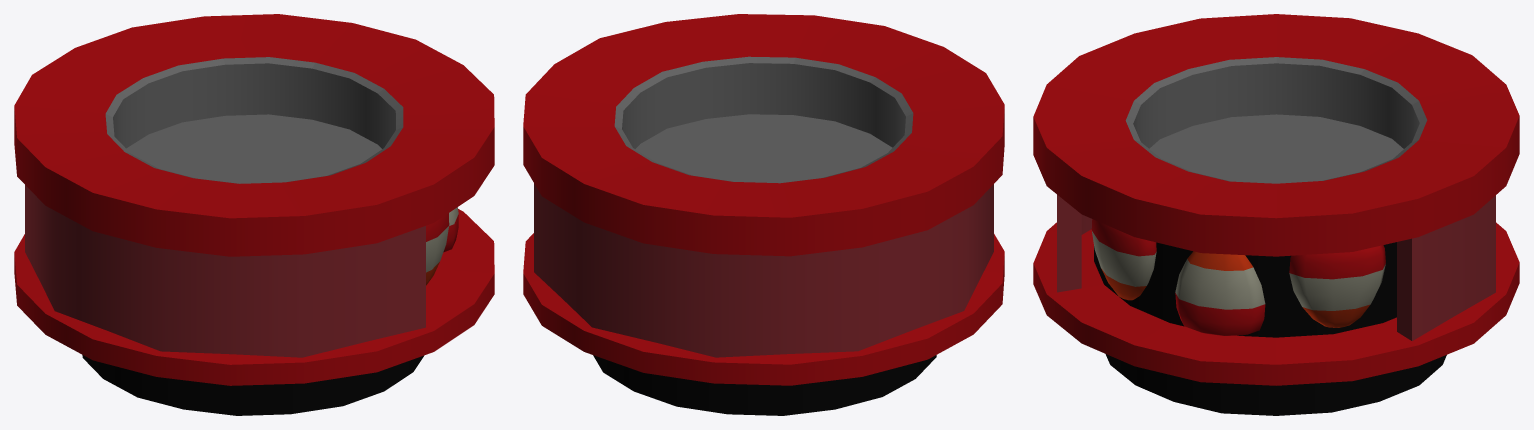
File: SM_Element_Red.fbx
3 views of the same model, side by side, from view 1: azimuth 30°, elevation 25°; view 2: azimuth 150°, elevation 25°; view 3: azimuth 270°, elevation 25° (orthographic).
Visible parts, largest first — view 1: SM_Element_Red; view 2: SM_Element_Red; view 3: SM_Element_Red.
Boxes of the visible parts, box(x1,y1,x2,y2) form: SM_Element_Red: box(14, 14, 494, 415); SM_Element_Red: box(523, 14, 1004, 415); SM_Element_Red: box(1033, 14, 1519, 415).
Size of the model in its own units: 81.1 by 41.85 by 81.61.
